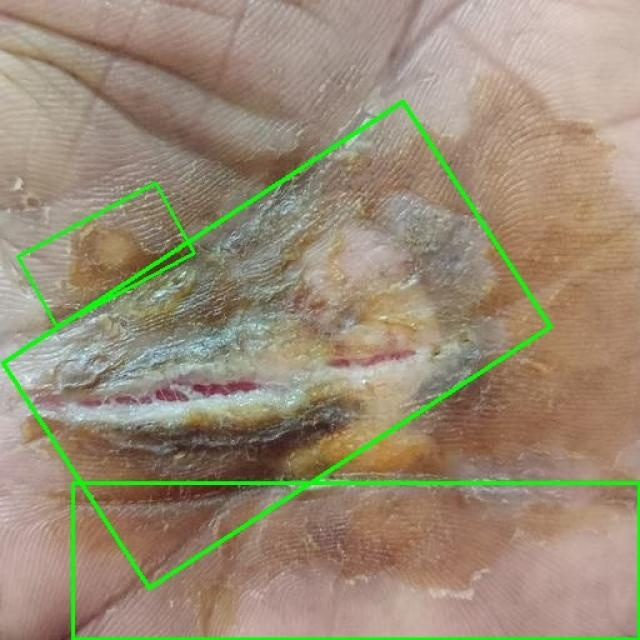Eczema: (3, 102, 550, 588), (72, 482, 639, 639), (19, 183, 194, 327)
